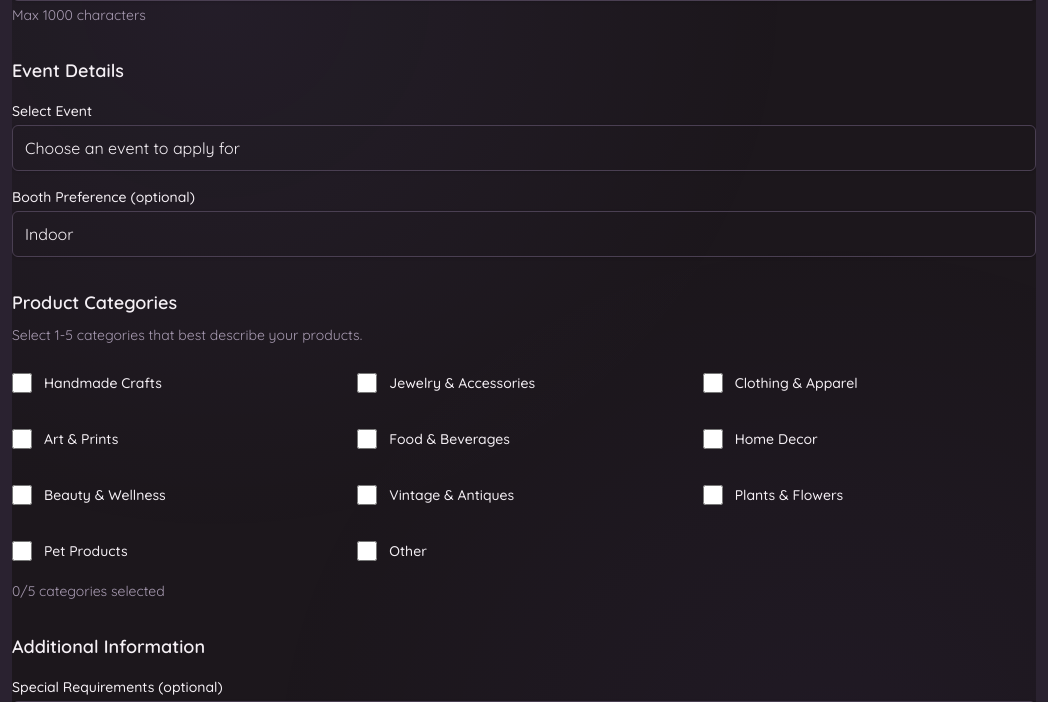
it: VendorApplicationForm › Product Categories › displays category count as user selects categories
The image size is (1048, 702).
(page scrolled)
Expected: the text "0/5 categories selected" is shown, [12,582,165,600]
Note: Select one category
Click the checkbox labelled "Handmade Crafts": point(22, 383) [12,373,32,393]
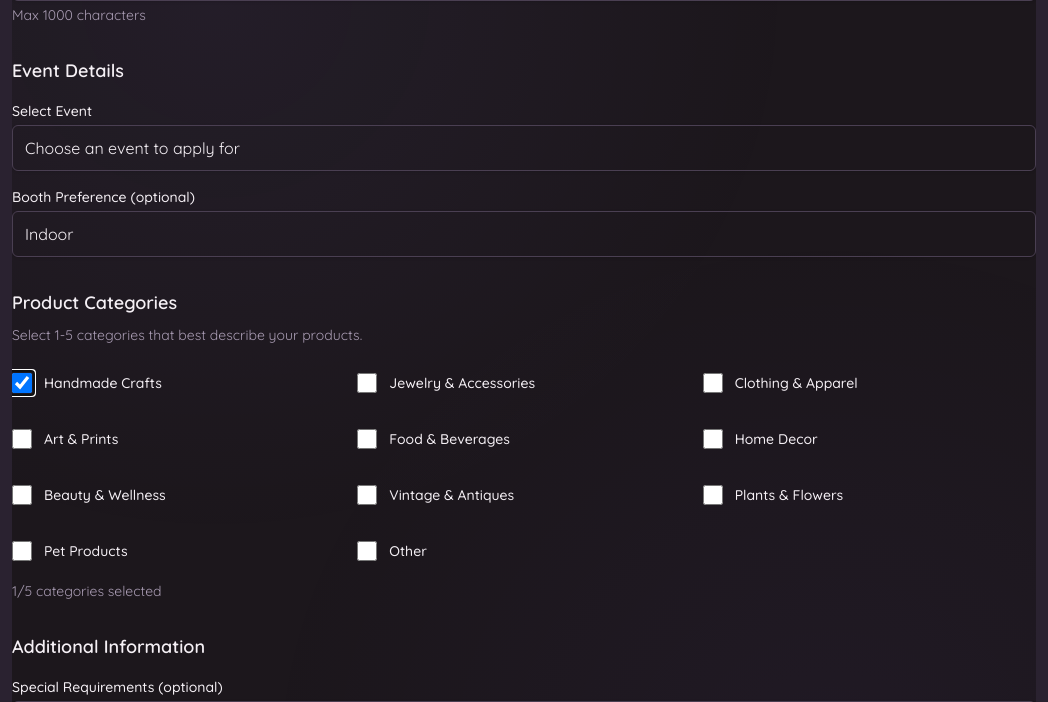
Now the text "1/5 categories selected" is shown, box [12,582,162,600]
Note: Select another
Click the checkbox labelled "Jewelry & Accessories": point(367, 383) [357,373,377,393]
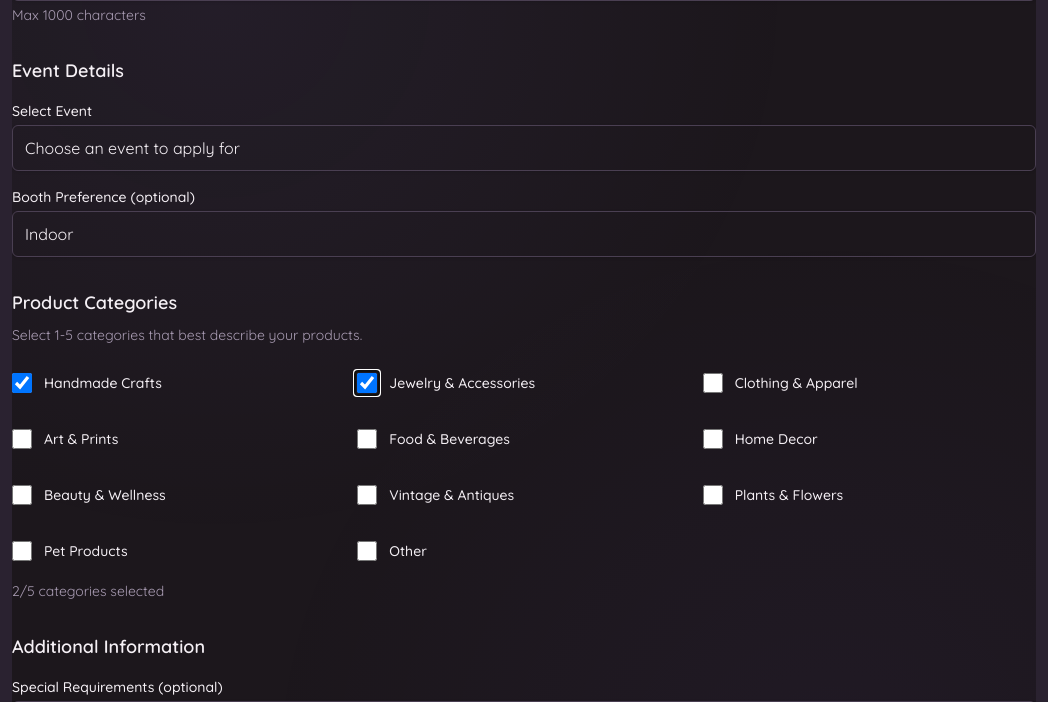
Now the text "2/5 categories selected" is shown, box [12,582,164,600]
Note: Deselect one
Click the checkbox labelled "Handmade Crafts": point(22, 383) [12,373,32,393]
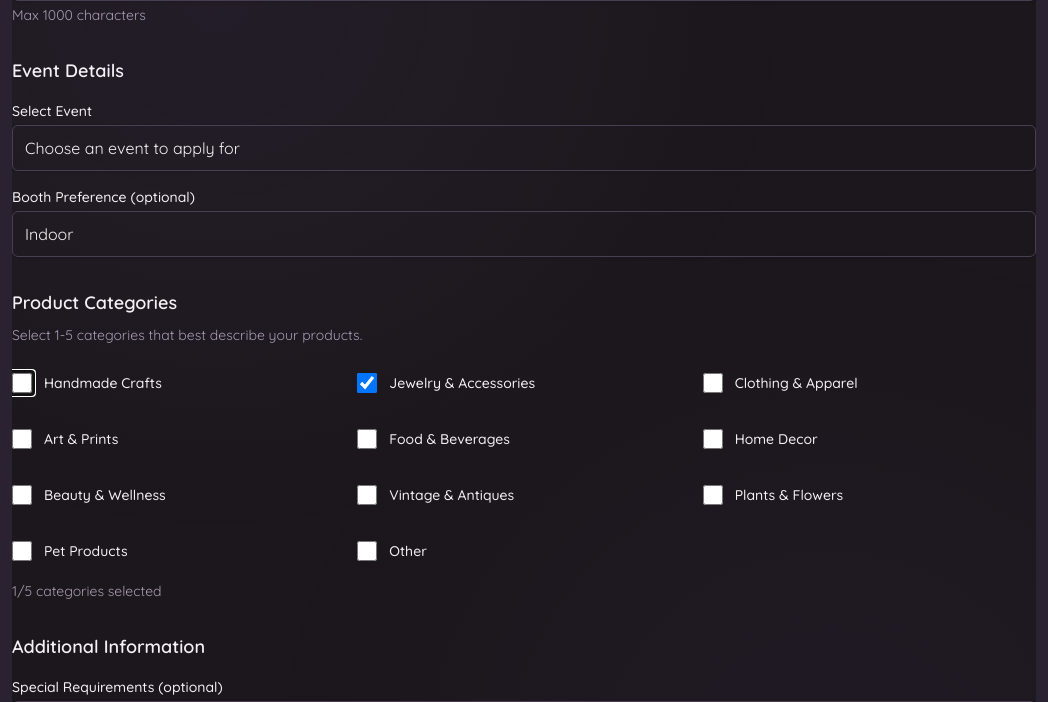
Now the text "1/5 categories selected" is shown, box [12,582,162,600]
